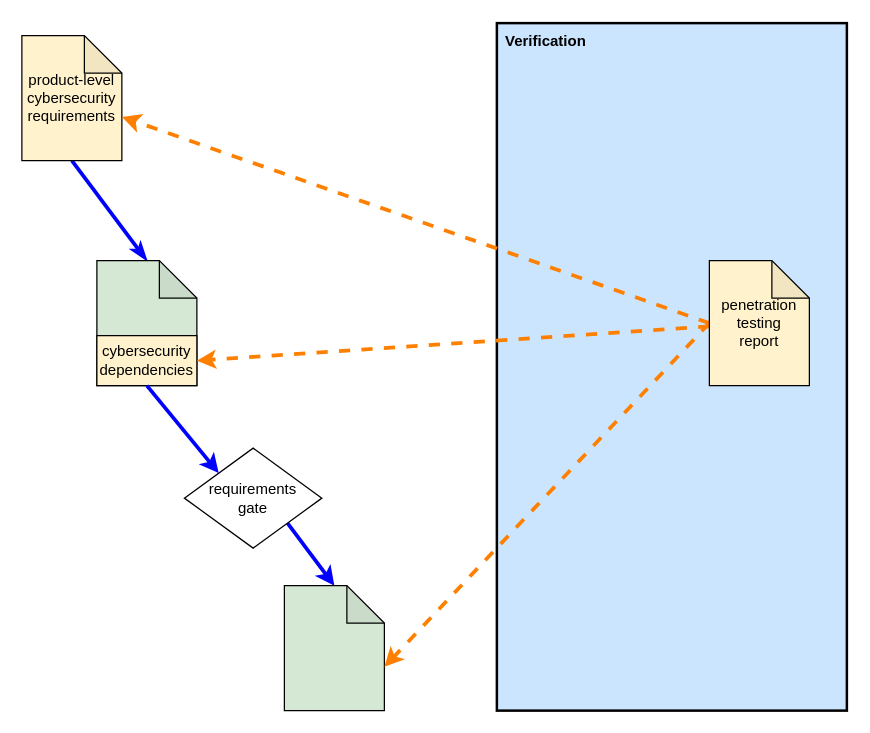
Some shapes in this 870 by 733 pixel diagram are drawn without their labels. Each missing label, with the box of its shape:
element functional requirements: (96, 259, 197, 386)
reviewed element design: (283, 584, 384, 711)
